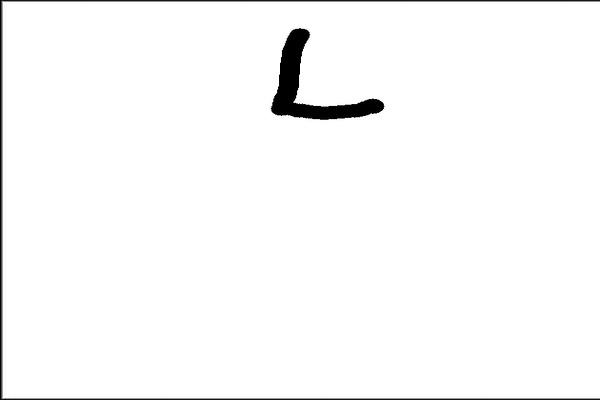L: (264, 22, 392, 133)
